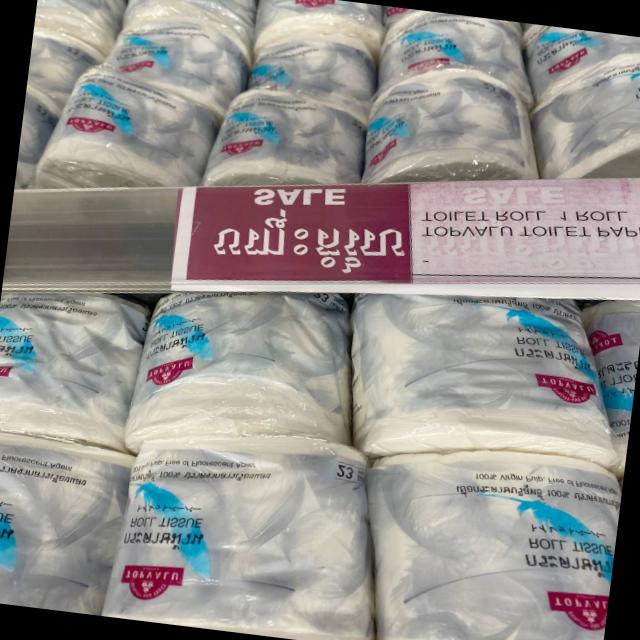Yolov11kh: (207, 204, 409, 276)
